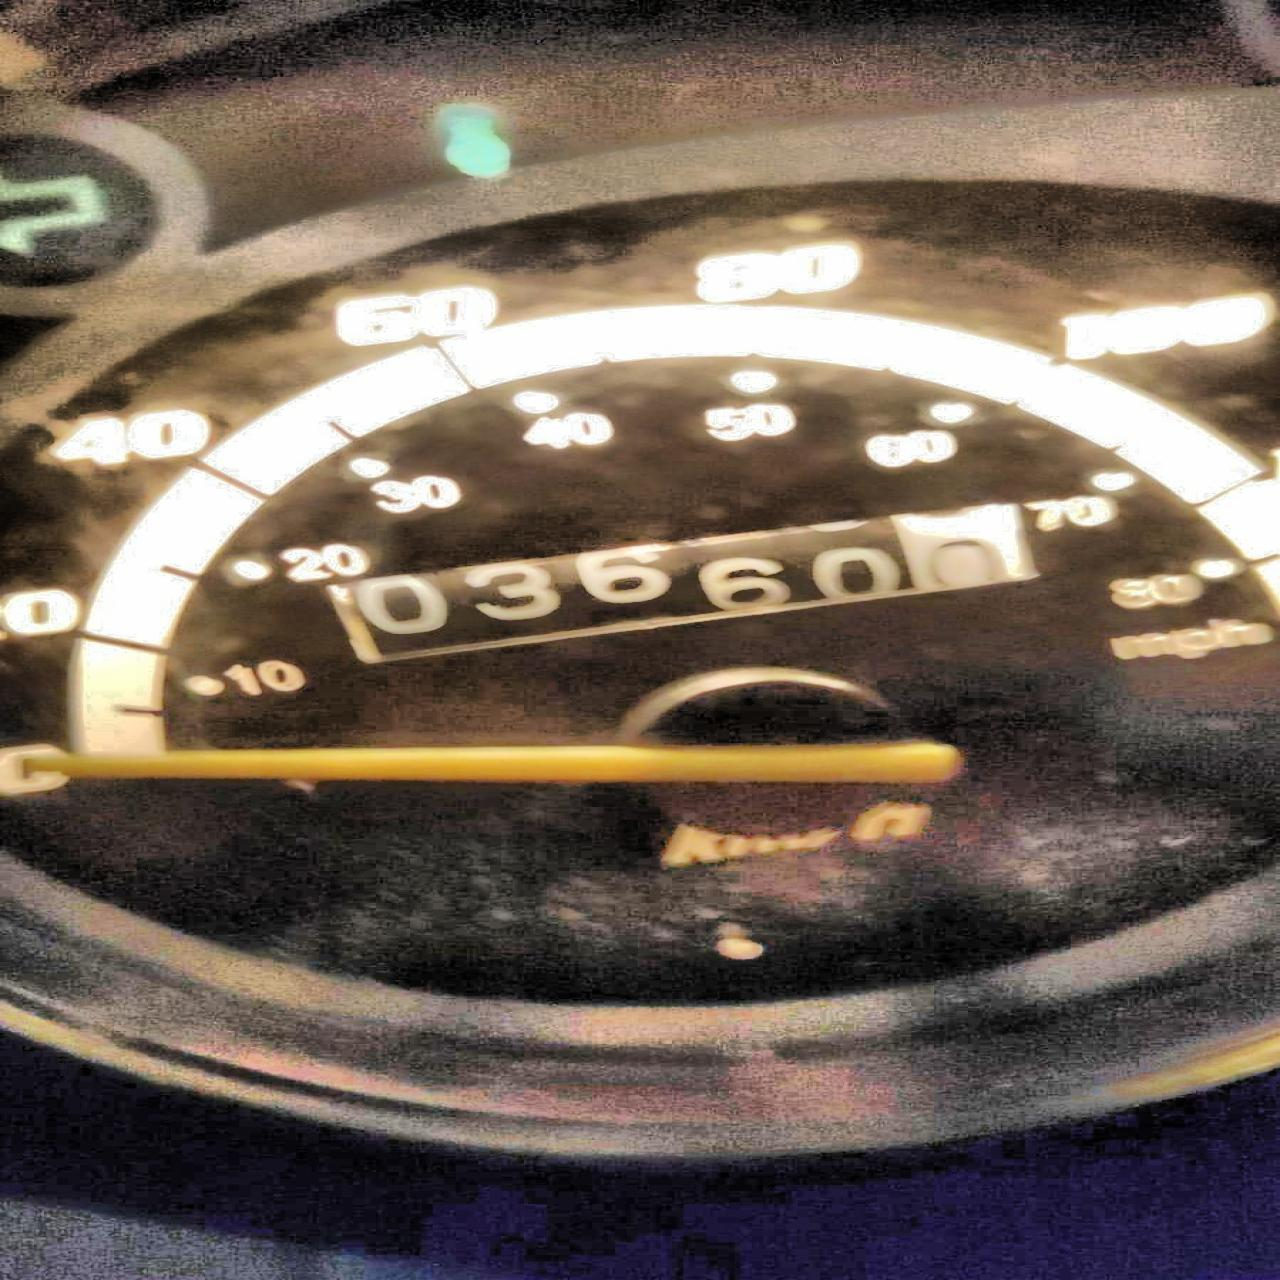0: (809, 539, 904, 614), (926, 535, 1016, 606), (347, 574, 450, 635), (410, 472, 471, 511), (322, 538, 379, 577)
3: (463, 558, 561, 624), (363, 478, 413, 516)
6: (568, 539, 674, 605), (697, 551, 789, 613)
7: (1023, 496, 1063, 532)
odometer: (318, 472, 1067, 672)
